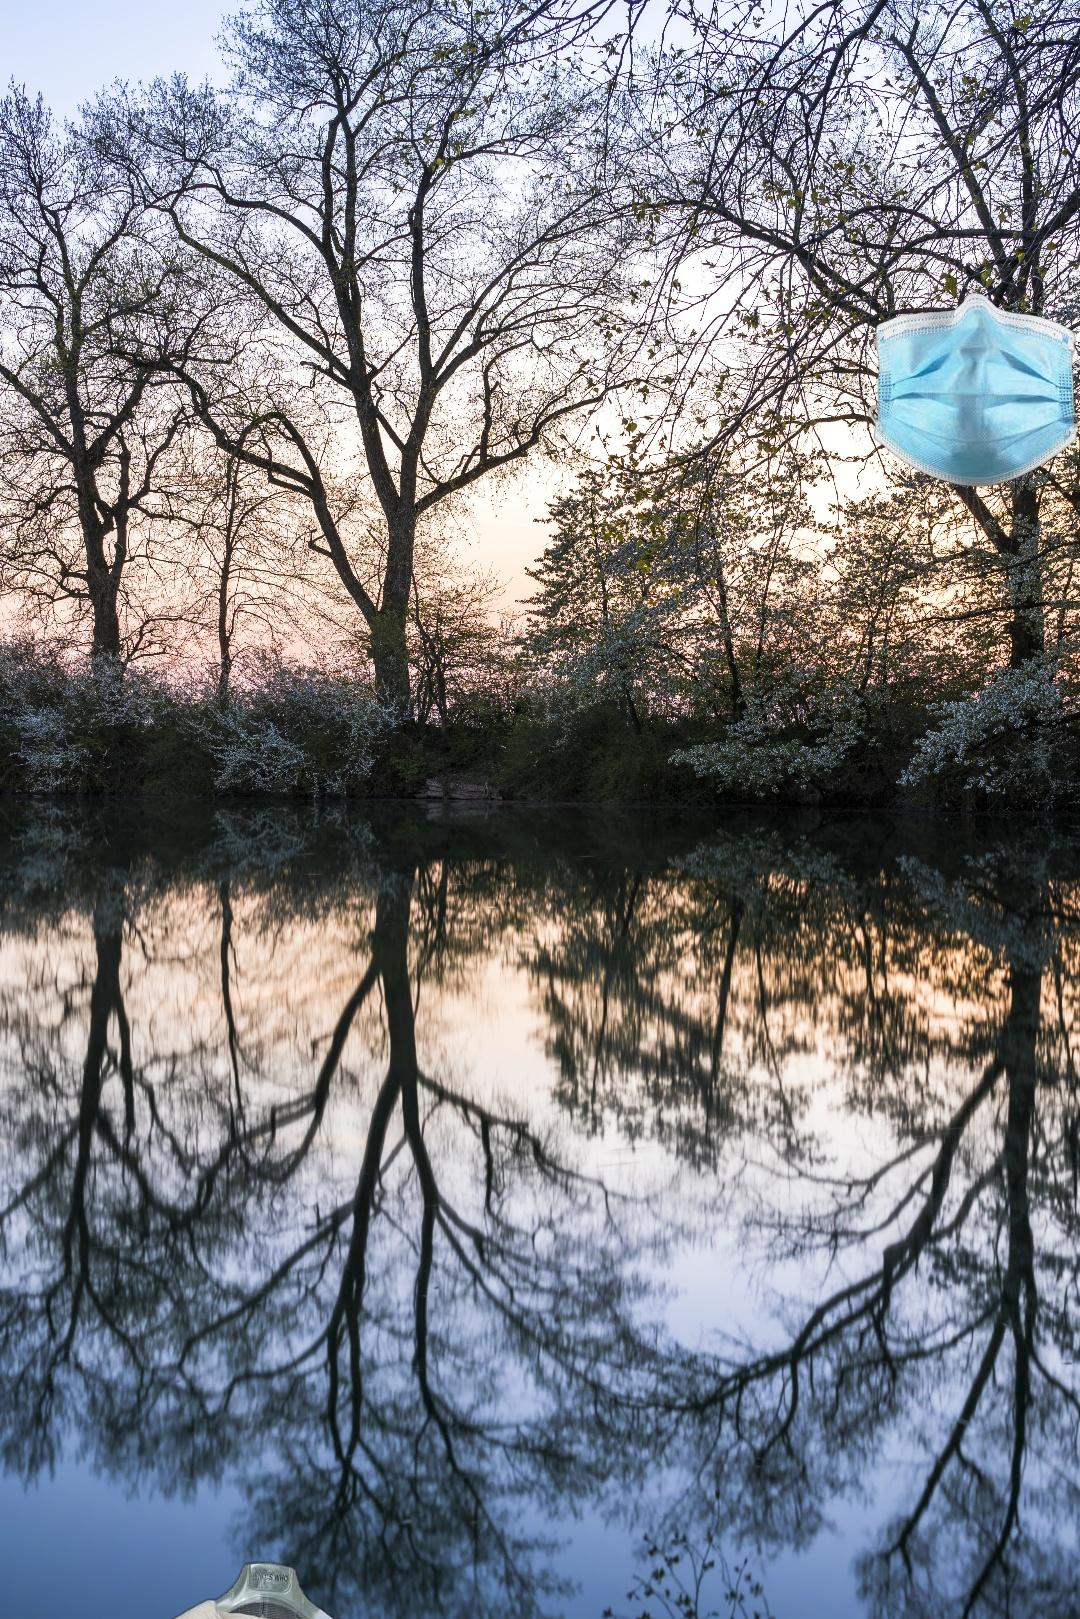clothes: (57, 1553, 457, 1619)
trash: (865, 291, 1080, 489)
